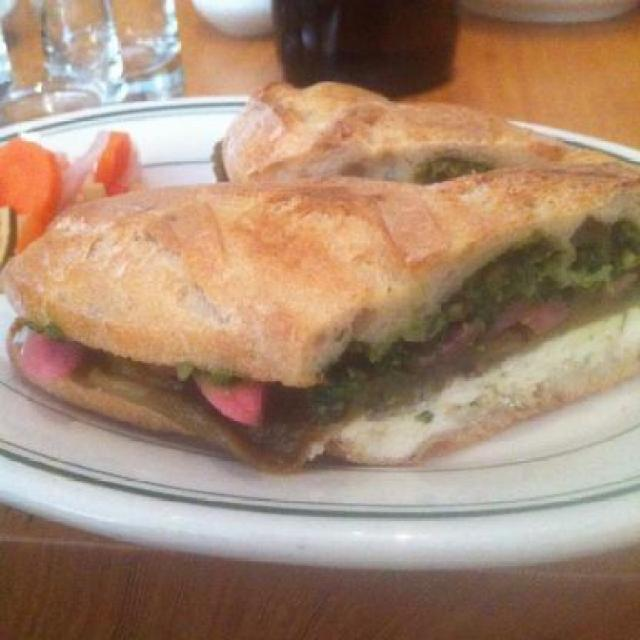Sandwich: (0, 163, 638, 478), (216, 76, 579, 184)
